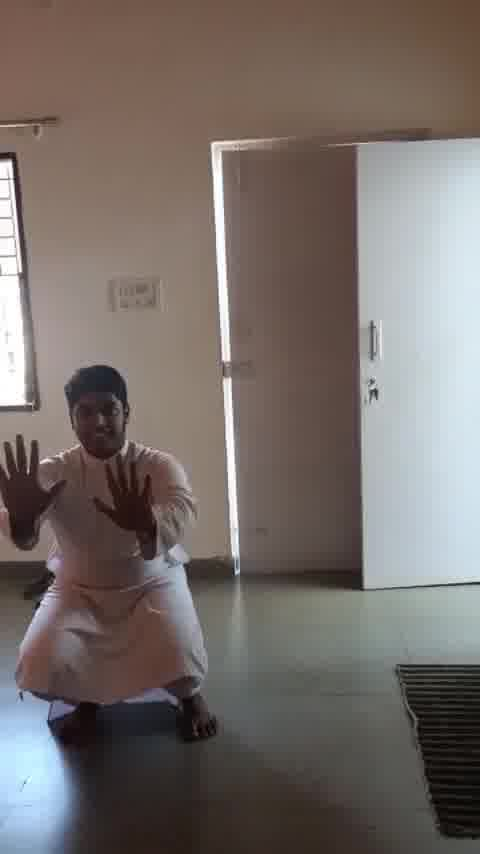duck: (8, 351, 234, 748)
